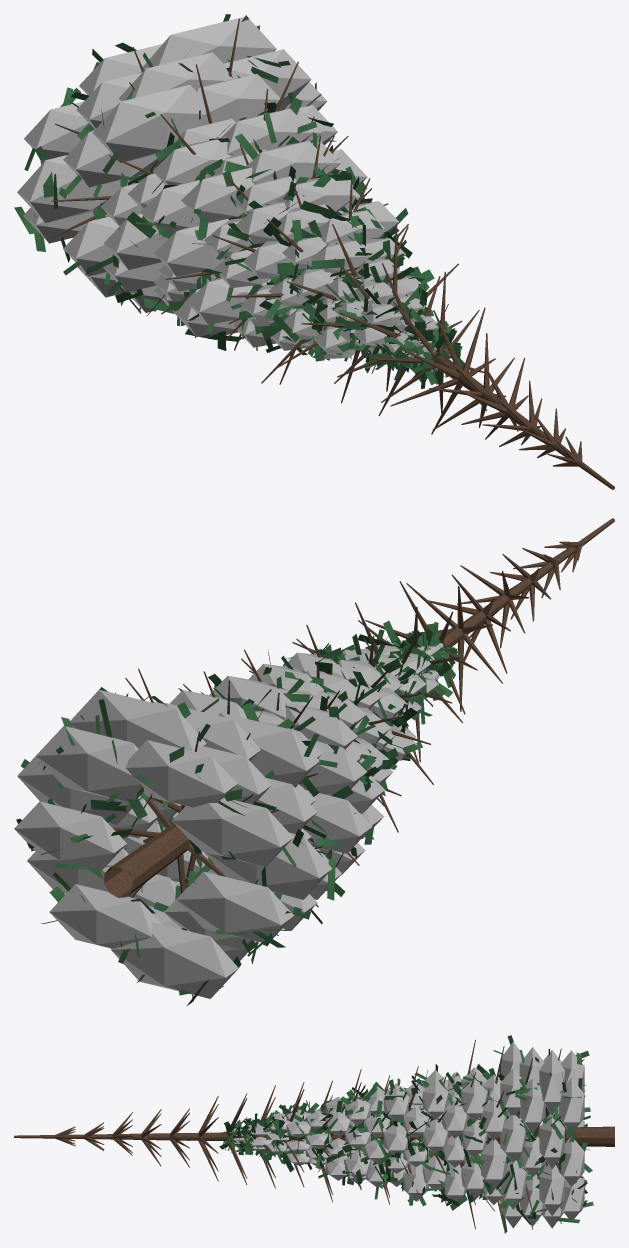
Rendered from Tree_03_Spruce.obj.
3 views of the same model, one above another, from view 1: azimuth 30°, elevation 25°; view 2: azimuth 150°, elevation 25°; view 3: azimuth 270°, elevation 25° (orthographic). The views are drawn at different scales.
Parts seen in each view (by area): view 1: canopy, leaves, trunk; view 2: canopy, leaves, trunk; view 3: canopy, leaves, trunk.
Boxes of the visible parts, box(x1,y1,x2,y2) form: canopy: box(17, 16, 450, 372); leaves: box(14, 14, 464, 388); trunk: box(51, 19, 614, 489); canopy: box(14, 641, 445, 998); leaves: box(16, 620, 460, 1006); trunk: box(80, 518, 614, 1001); canopy: box(228, 1041, 584, 1228); leaves: box(219, 1035, 593, 1233); trunk: box(14, 1040, 614, 1229).
Bounding box in the file's own units: 4.35 × 4.03 × 12.2.
3 materials, 2 textured.
